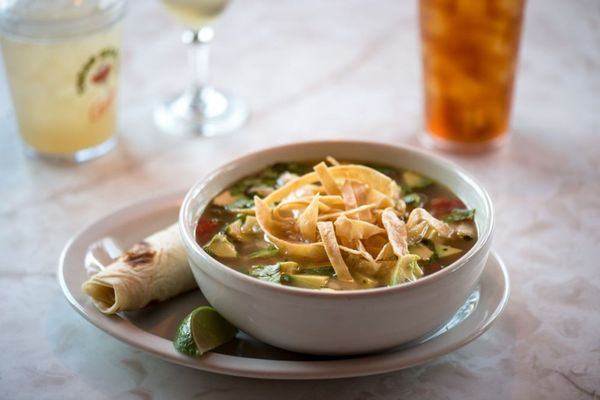pizza: (0, 0, 126, 164), (414, 0, 526, 155)
sushi: (179, 136, 496, 357)
